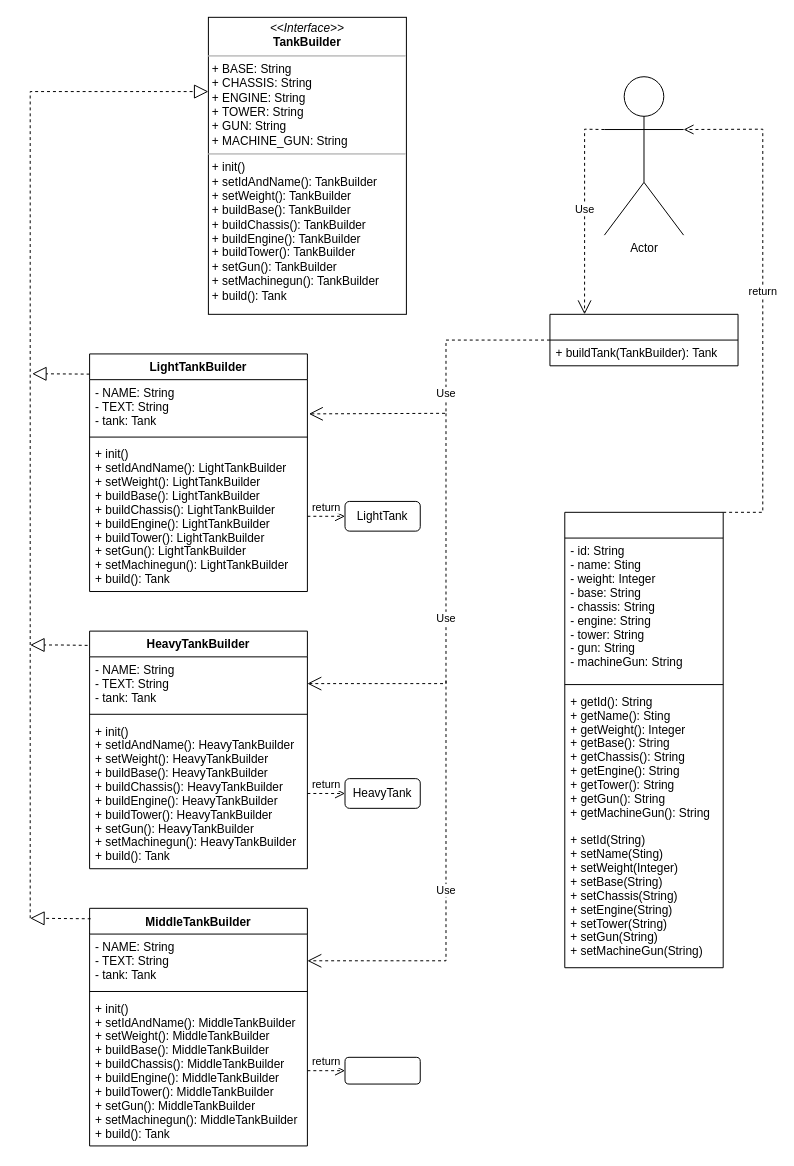
This 794x1166 diagram has some shape labels left out. Each missing label, with the box of its shape:
MiddleTank: (344, 1056, 420, 1084)
Tank: (564, 511, 723, 968)
TankBuilderDdirector: (549, 313, 738, 366)
